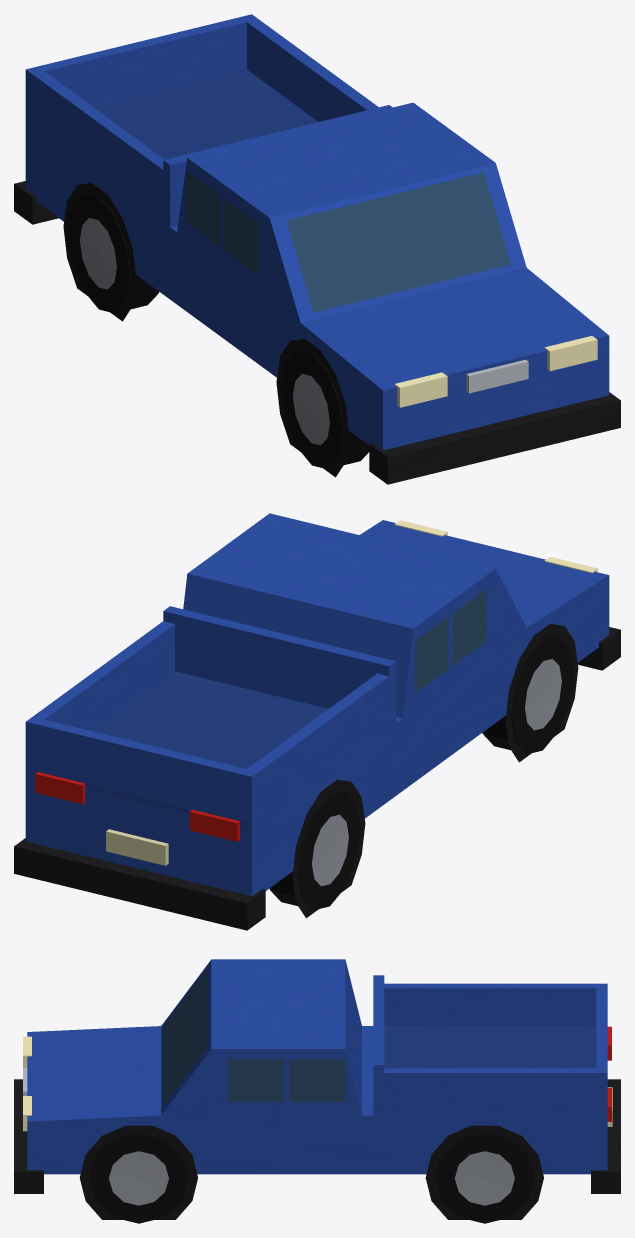
File: pickup-blue.glb
3 renders of one model, top to bottom at view 1: azimuth 30°, elevation 25°; view 2: azimuth 150°, elevation 25°; view 3: azimuth 270°, elevation 25°, orthographic. The views are drawn at different scales.
Visible parts, largest first — view 1: pickup-blue, wheel_rr, wheel_fr; view 2: pickup-blue, wheel_rr, wheel_fr; view 3: pickup-blue, wheel_fl, wheel_rl.
Boxes of the visible parts, x1,y1,x2,y2 form: pickup-blue: [14, 14, 620, 484]; wheel_rr: [68, 193, 159, 313]; wheel_fr: [281, 349, 369, 469]; pickup-blue: [14, 513, 620, 930]; wheel_rr: [269, 790, 360, 910]; wheel_fr: [482, 634, 573, 754]; pickup-blue: [14, 959, 620, 1219]; wheel_fl: [88, 1132, 188, 1223]; wheel_rl: [434, 1132, 534, 1223].
Size of the model in its own units: 1.96 by 1.72 by 5.44.
Materials: 1 (1 with a texture image).
